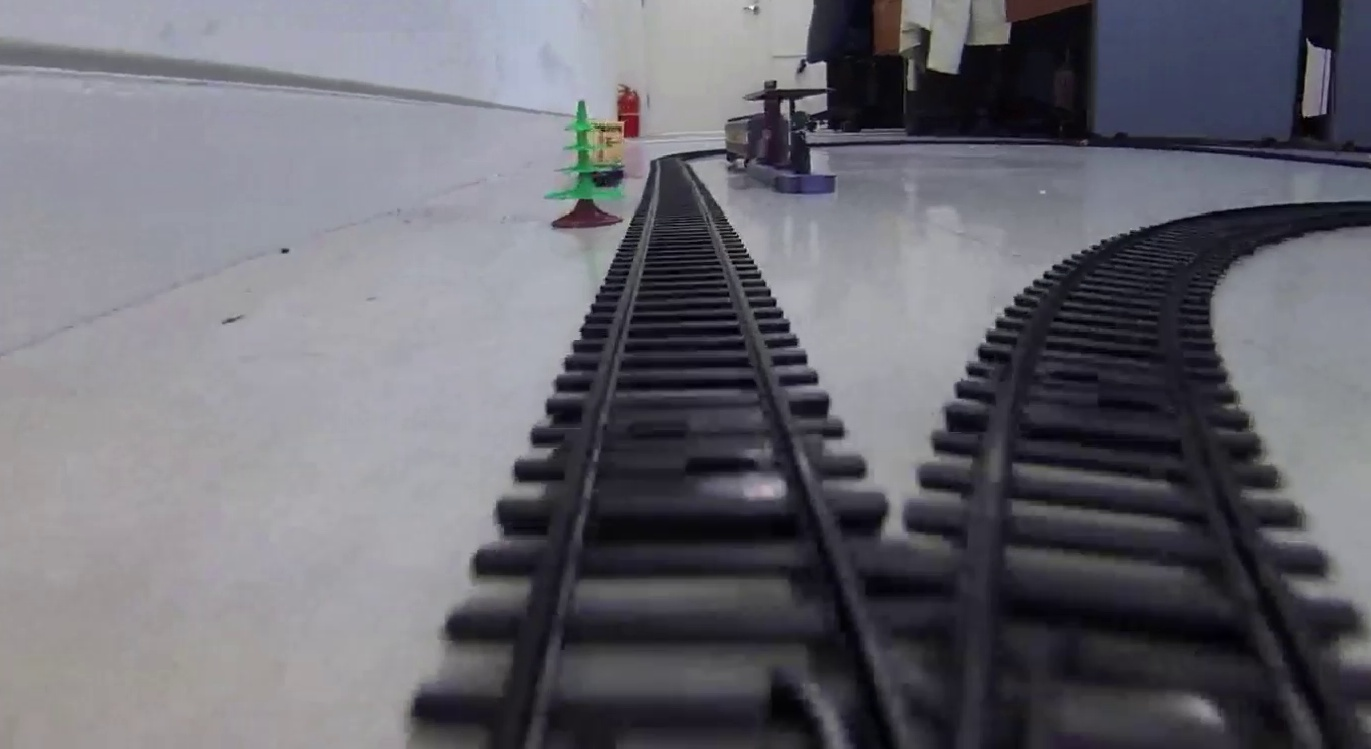tree: (543, 101, 623, 226)
